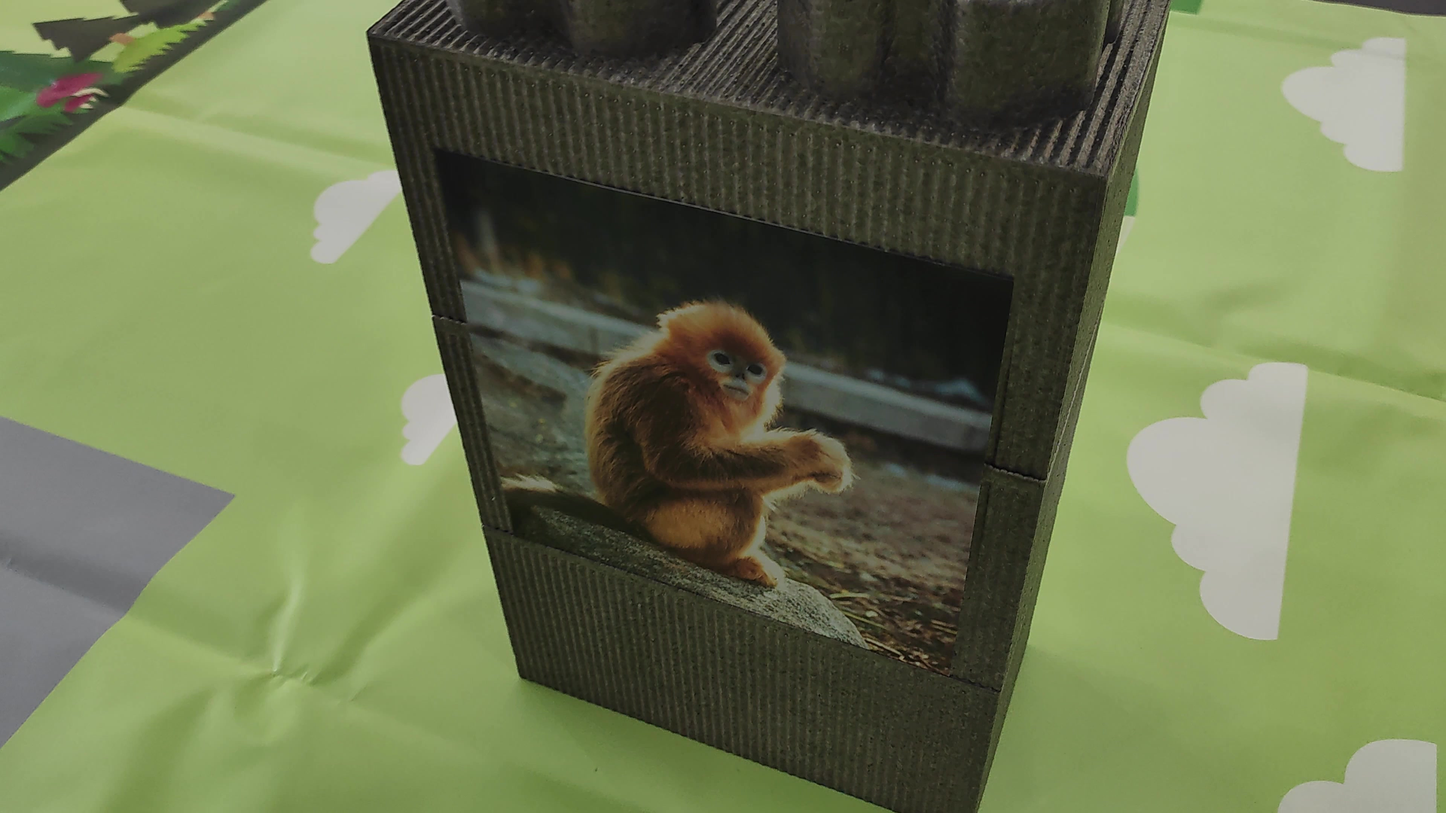monkey: (486, 212, 904, 610)
